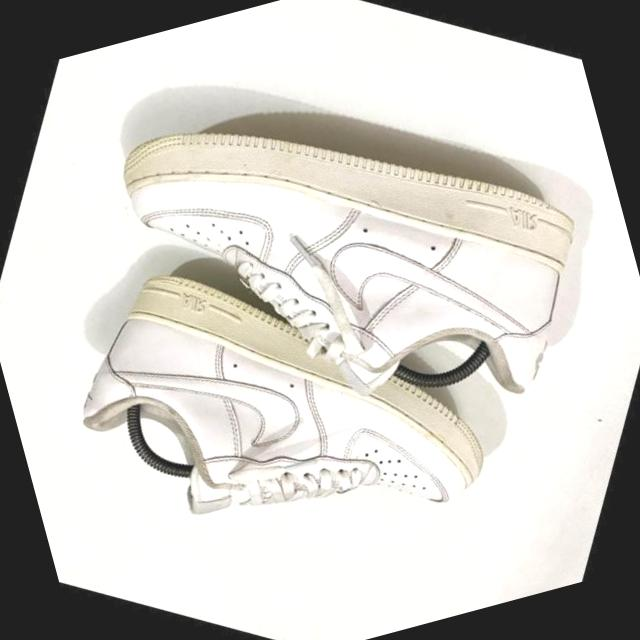nike_original_airforce: (27, 0, 638, 534), (10, 165, 565, 640)
